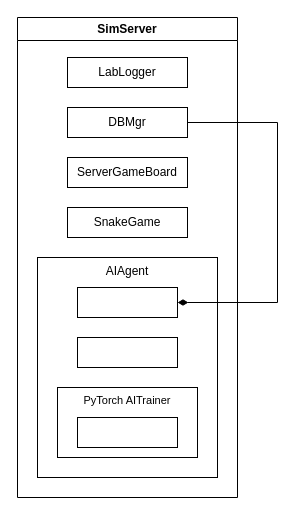
This 305x515 diagram has some shape labels left out. The shapes that lost their labels are listed below. From the top down, each one's centre as x and y in pixels, then its label:
point (127, 302): ReplayMemory
point (127, 352): PyTorch Model
point (127, 432): PyTorch Optimizer
